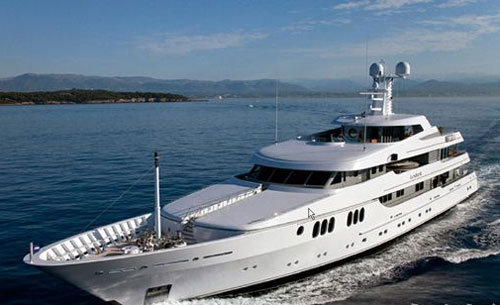yacht: (20, 61, 478, 301)
